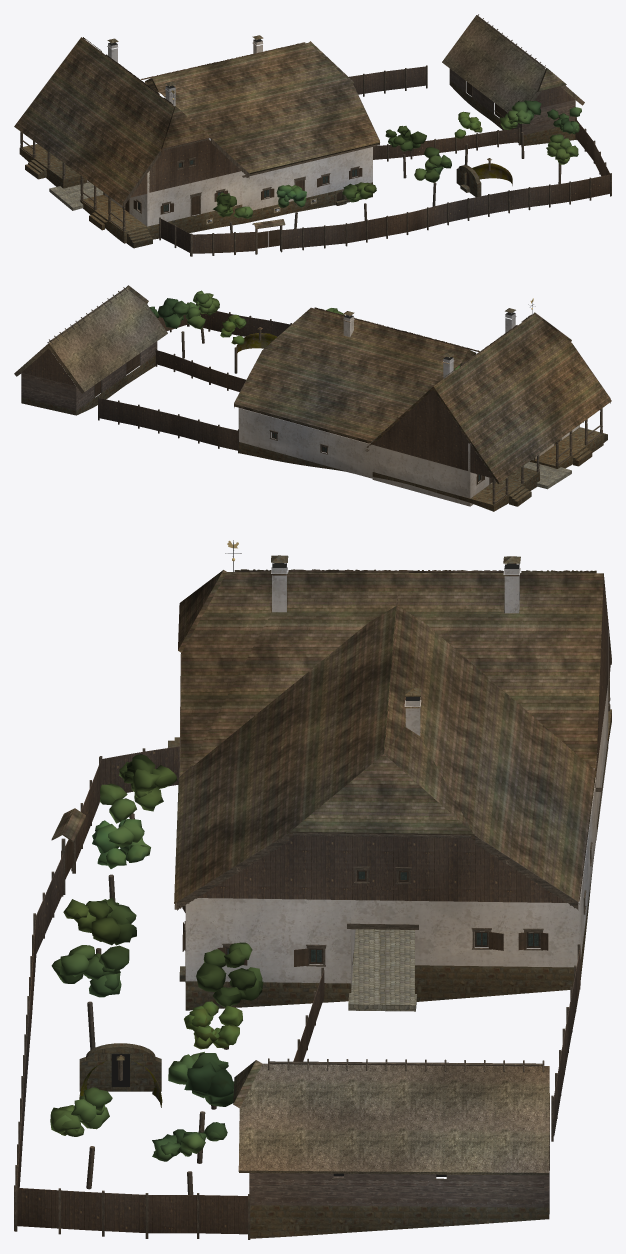
File: dom19a_lekki.glb
3 renders of one model, top to bottom at view 1: azimuth 30°, elevation 25°; view 2: azimuth 150°, elevation 25°; view 3: azimuth 270°, elevation 25°, orthographic. The views are drawn at different scales.
Parts seen in each view (by area): view 1: Dom19a_lekki; view 2: Dom19a_lekki; view 3: Dom19a_lekki.
Boxes of the visible parts, x1,y1,x2,y2 form: Dom19a_lekki: [14, 14, 611, 256]; Dom19a_lekki: [14, 285, 611, 511]; Dom19a_lekki: [14, 540, 611, 1239].
Size of the model in its own units: 54.41 by 17.18 by 29.19.
Materials: 18 (14 with a texture image).
